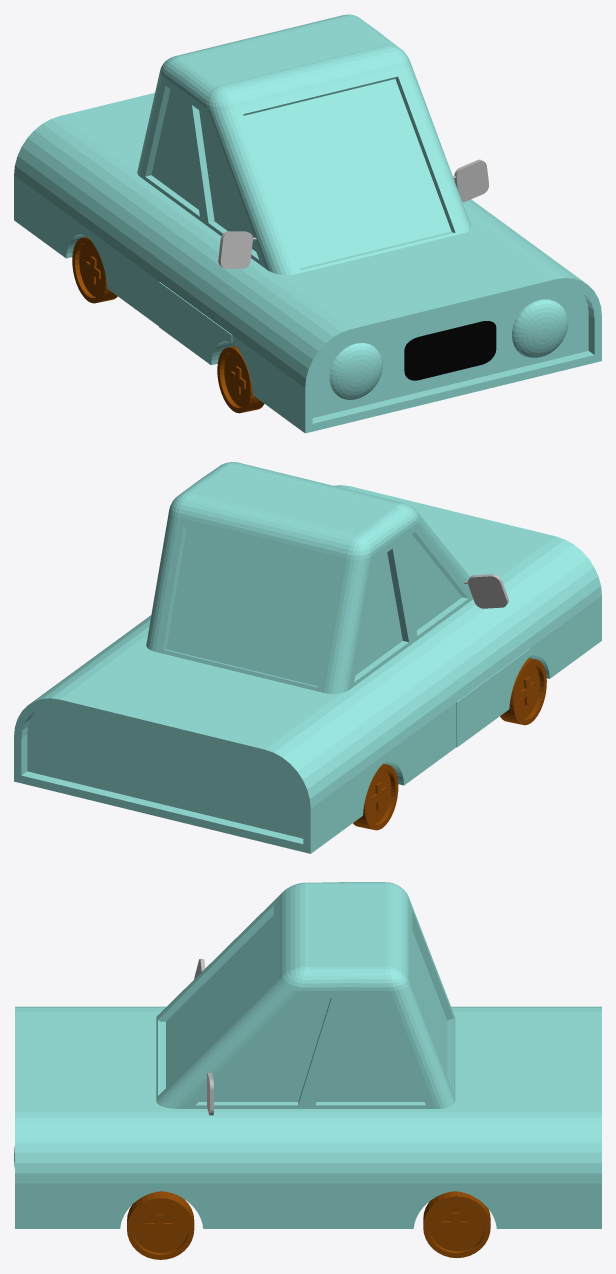
The model's file is carro3.glb.
The picture shows the model from 3 angles, top to bottom: view 1: azimuth 30°, elevation 25°; view 2: azimuth 150°, elevation 25°; view 3: azimuth 270°, elevation 25°; orthographic projection.
Parts seen in each view (by area): view 1: Cube, Plano, Cilindro, Cubo; view 2: Cube, Cilindro, Cubo; view 3: Cube, Cilindro.
Part boxes in pixels (x1=…): Cube: x1=14, y1=14, x2=601, y2=433; Plano: x1=404, y1=321, x2=496, y2=380; Cilindro: x1=72, y1=237, x2=264, y2=413; Cubo: x1=218, y1=159, x2=488, y2=268; Cube: x1=14, y1=462, x2=601, y2=853; Cilindro: x1=353, y1=658, x2=546, y2=830; Cubo: x1=464, y1=574, x2=508, y2=608; Cube: x1=14, y1=882, x2=601, y2=1228; Cilindro: x1=127, y1=1191, x2=490, y2=1259.
Size of the model in its own units: 2.01 by 1.67 by 3.41.
